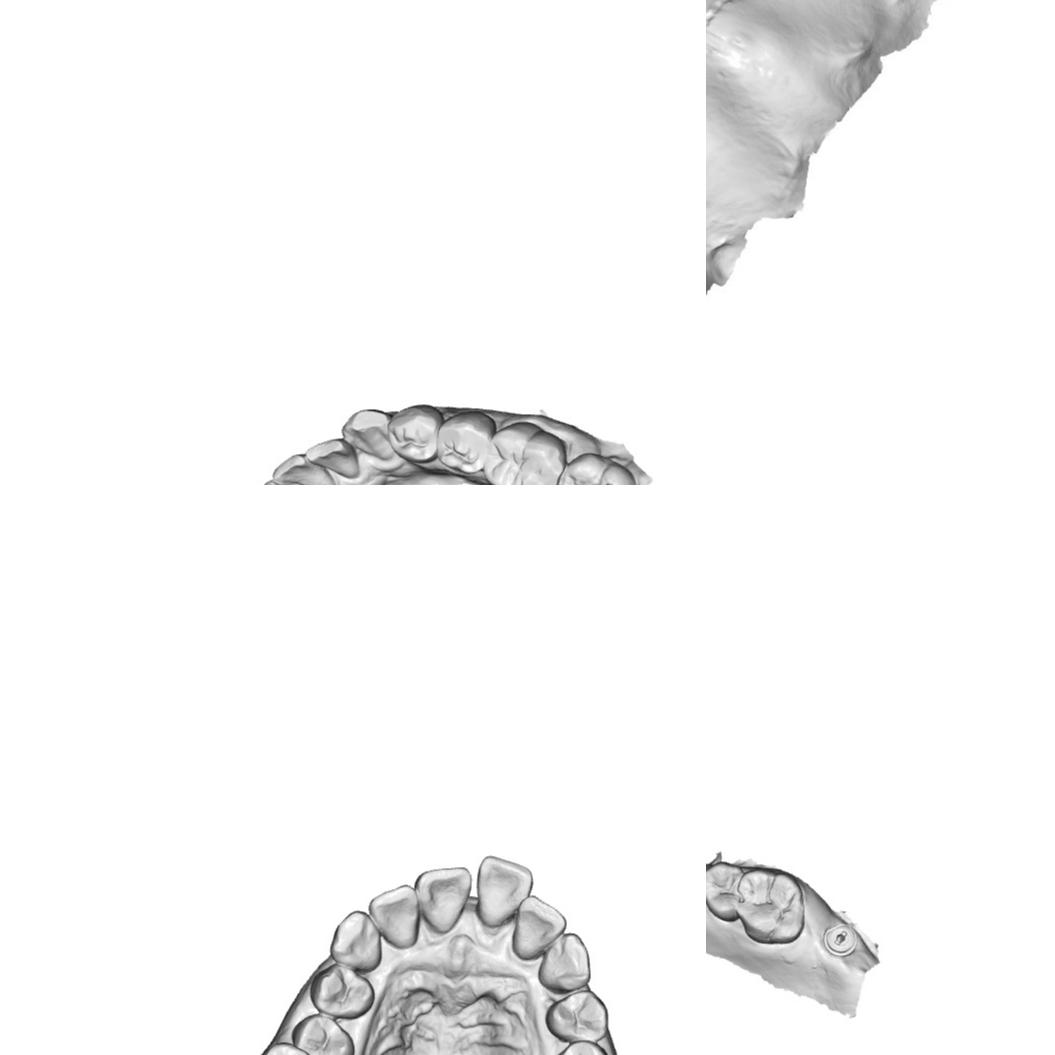canine: (328, 908, 382, 974), (535, 931, 591, 994), (339, 407, 397, 466)
implant_minus: (822, 922, 857, 959)
incisor: (475, 851, 535, 930), (413, 865, 472, 935), (510, 892, 568, 962), (367, 883, 422, 950), (304, 433, 360, 484), (269, 451, 341, 485)
molar: (735, 865, 808, 946), (482, 420, 566, 485), (553, 450, 637, 485)
premolar: (308, 961, 377, 1021), (435, 407, 493, 476), (385, 401, 444, 467), (544, 987, 611, 1044), (289, 1012, 357, 1055), (706, 860, 743, 923), (545, 1038, 612, 1055)
